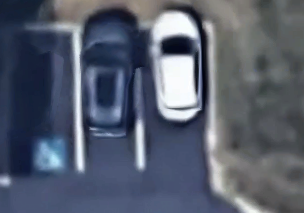Occupied: (140, 26, 211, 170), (78, 27, 142, 170)
Vacant: (7, 26, 79, 171)
